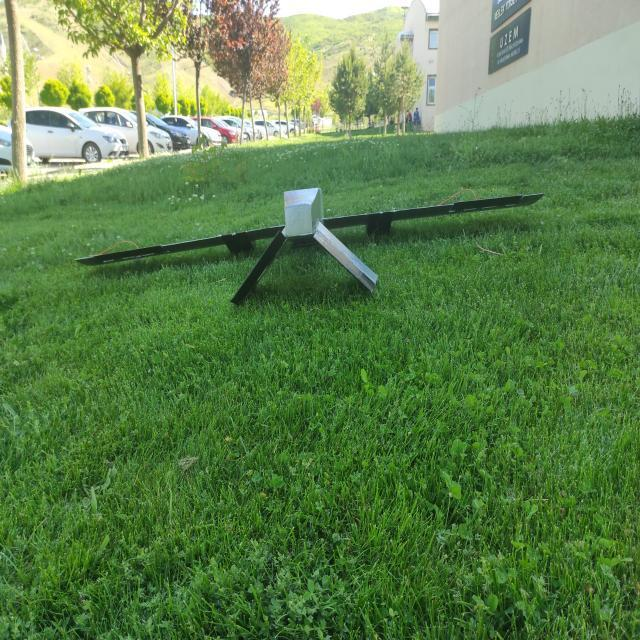iha: (71, 217, 547, 273)
